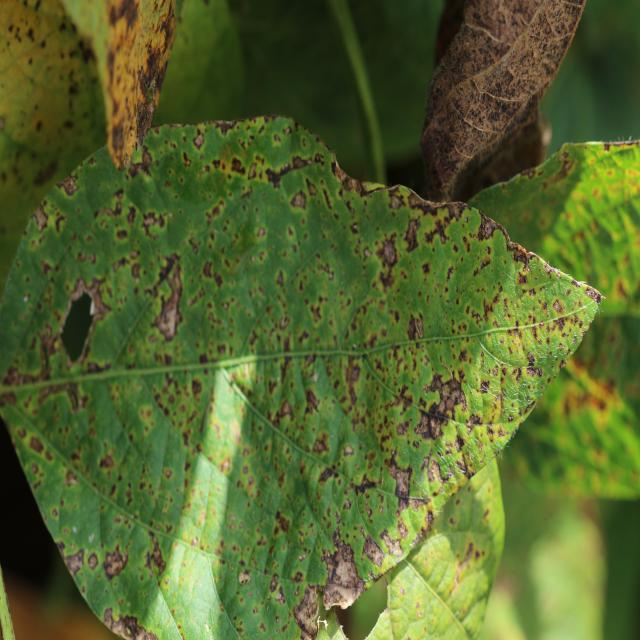Bacterial_Blight: (149, 258, 195, 345), (264, 155, 314, 189), (102, 606, 153, 639), (293, 582, 320, 637), (386, 456, 415, 506), (35, 322, 61, 375), (86, 275, 112, 320), (102, 544, 128, 581), (361, 534, 387, 568), (139, 209, 168, 239), (128, 145, 154, 176), (148, 536, 166, 574), (62, 548, 85, 577), (403, 217, 421, 251), (414, 410, 434, 439), (31, 201, 49, 233), (57, 174, 79, 197), (477, 216, 497, 241), (511, 247, 533, 269), (407, 314, 424, 340), (379, 267, 396, 291), (382, 238, 397, 265), (305, 387, 320, 413), (584, 285, 603, 304), (278, 399, 294, 421), (28, 435, 45, 454), (312, 435, 328, 455), (465, 413, 483, 429), (99, 453, 116, 469), (231, 156, 245, 174), (192, 132, 205, 149), (203, 260, 214, 279), (238, 570, 251, 586), (552, 298, 564, 313), (279, 314, 290, 330), (526, 353, 537, 367), (248, 163, 257, 179), (343, 444, 354, 457)
Soybean: (0, 117, 600, 640)
